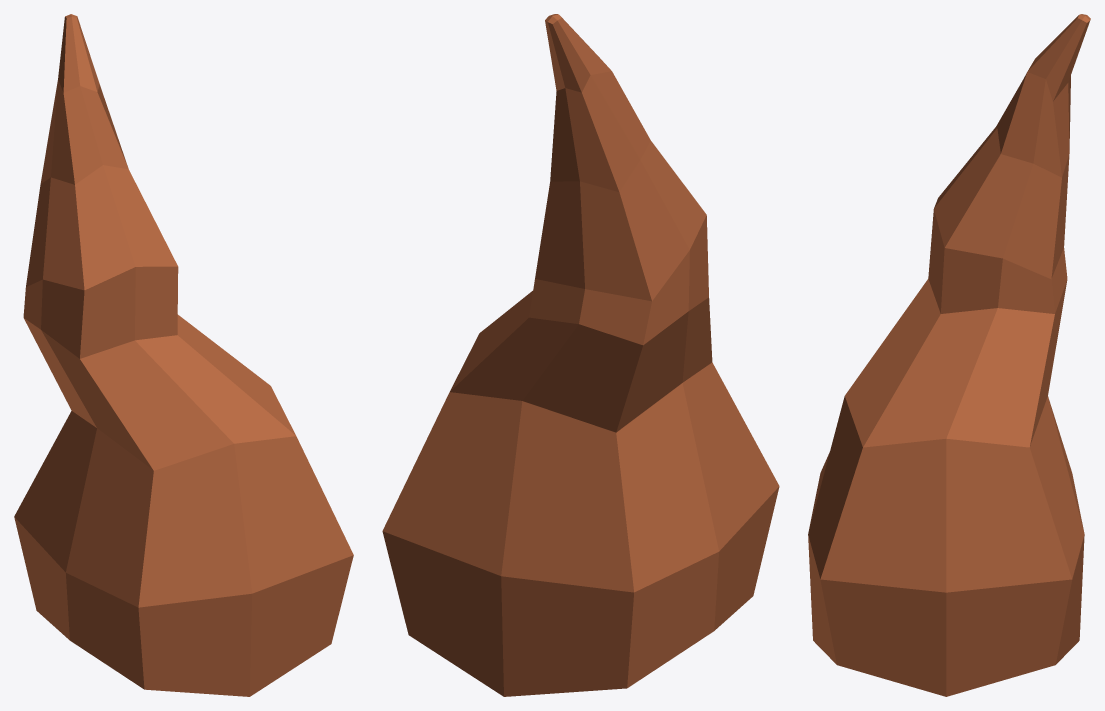
File: rockbig001.fbx
3 views of the same model, side by side, from view 1: azimuth 30°, elevation 25°; view 2: azimuth 150°, elevation 25°; view 3: azimuth 270°, elevation 25° (orthographic). The views are drawn at different scales.
Parts seen in each view (by area): view 1: Cube; view 2: Cube; view 3: Cube.
Part boxes in pixels (x1,y1,x2,y2): Cube: [14, 14, 353, 696]; Cube: [382, 14, 779, 696]; Cube: [808, 14, 1090, 696].
Bounding box in the file's own units: 273 × 682 × 279.
